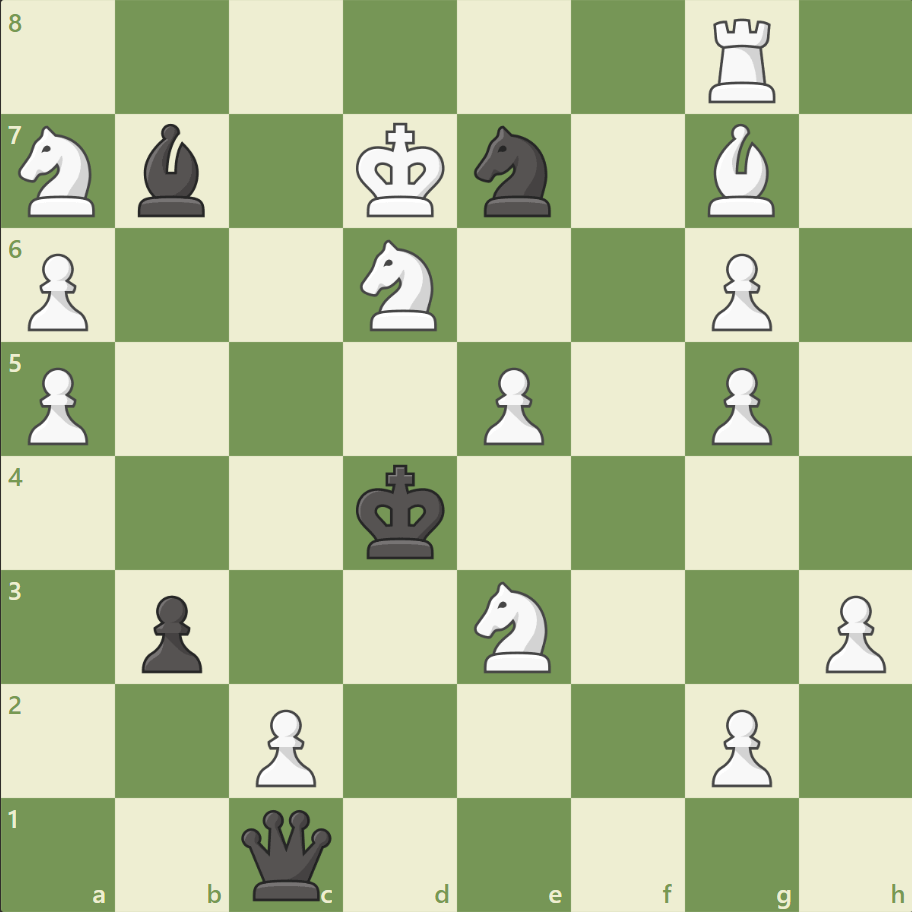B: (698, 120, 782, 222)
K: (351, 117, 451, 225)
N: (351, 234, 449, 337), (11, 121, 108, 223), (465, 575, 562, 677)
P: (20, 246, 95, 337), (701, 246, 776, 337), (20, 359, 95, 450), (474, 359, 549, 450), (701, 359, 776, 450), (247, 700, 322, 791), (701, 700, 776, 791), (815, 586, 889, 677)
R: (700, 12, 783, 109)
b: (131, 120, 215, 222)
k: (351, 458, 451, 566)
n: (465, 121, 562, 223)
p: (133, 586, 208, 677)
q: (237, 804, 336, 903)
